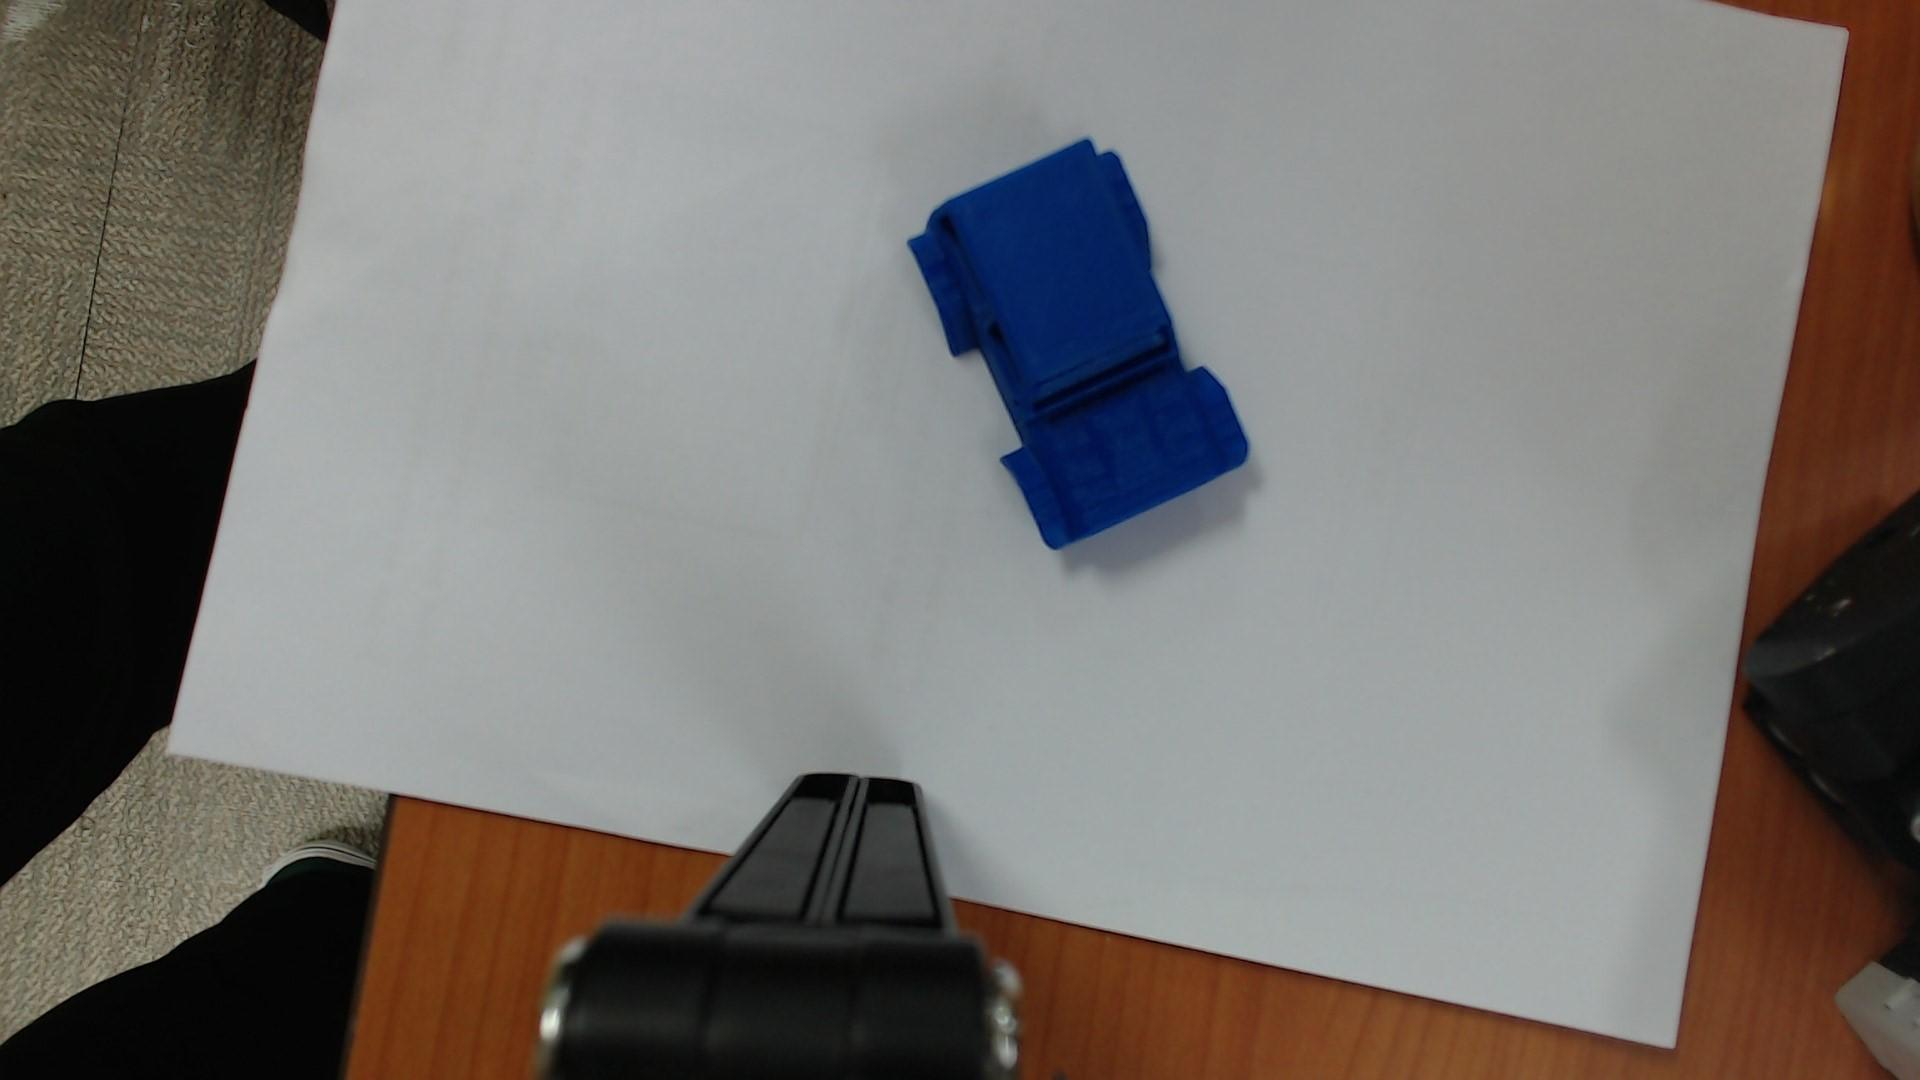Upper_ng: (909, 138, 1247, 549)
